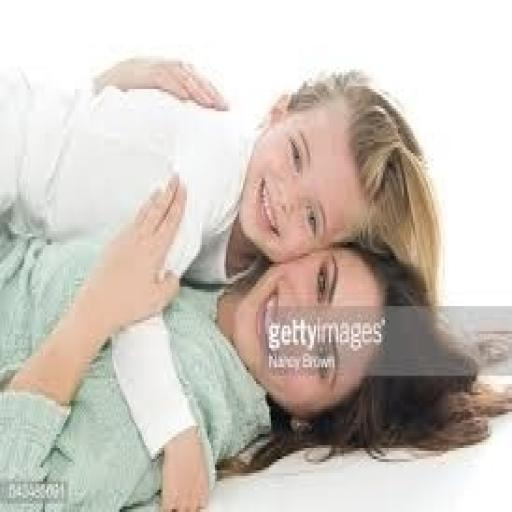hugging: (0, 50, 506, 509)
